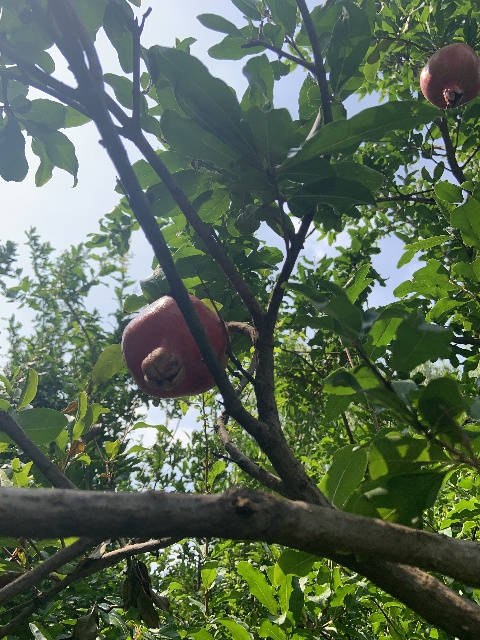ripe: (121, 293, 229, 398), (419, 42, 480, 110)
